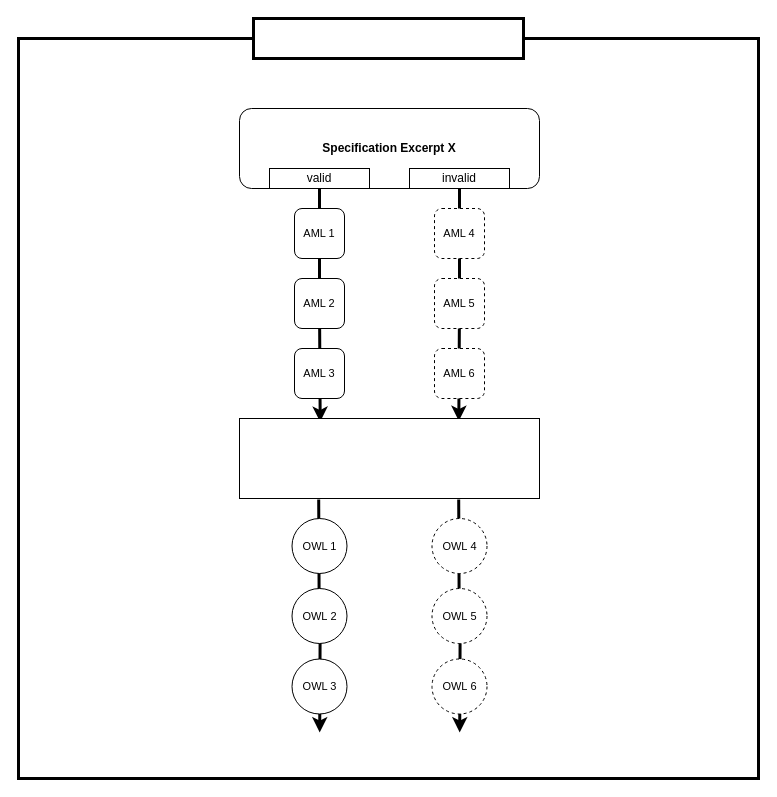
The diagram is 777 pixels wide and 797 high, and some of its shapes have lost their labels. Here are the shapes that lost their labels. From the top down, the centre of each, then its label:
pixel 388 38: AML → OWL
pixel 389 458: AML → OWL Plugin
